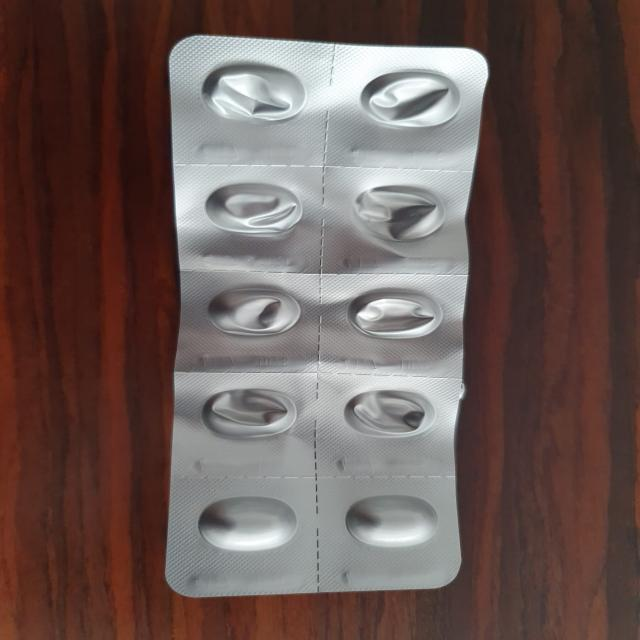Empty: (188, 50, 309, 140), (186, 165, 313, 249), (356, 59, 474, 148), (345, 170, 459, 259), (336, 281, 448, 351), (192, 379, 302, 446), (199, 274, 300, 344), (341, 380, 442, 450)
Pill: (341, 474, 453, 570), (195, 482, 307, 564)
